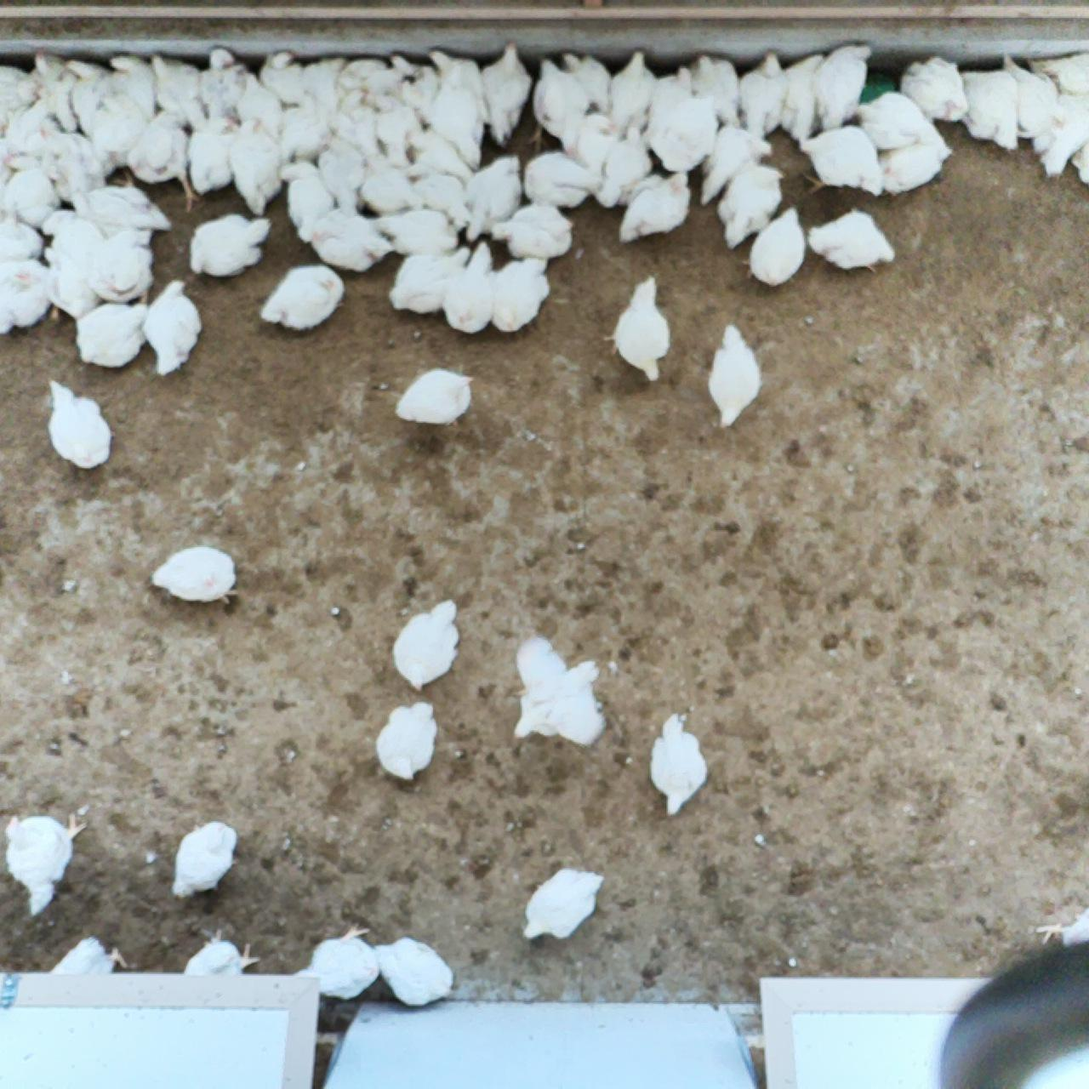chicken: (513, 630, 610, 751), (1, 812, 89, 917), (174, 930, 262, 1032), (40, 202, 108, 318), (125, 110, 201, 212), (280, 925, 380, 1002), (47, 938, 135, 1024), (517, 866, 608, 948), (605, 273, 671, 386), (389, 601, 466, 692), (807, 207, 903, 279), (75, 227, 159, 308), (854, 90, 953, 158), (43, 375, 113, 470), (645, 712, 707, 819), (68, 182, 167, 249), (146, 544, 245, 611), (799, 125, 886, 201), (372, 932, 455, 1011), (302, 202, 393, 274), (140, 276, 205, 376), (705, 319, 763, 431), (388, 247, 473, 320), (188, 211, 275, 282), (259, 264, 345, 334), (617, 170, 696, 246), (716, 165, 788, 248), (740, 201, 807, 290), (480, 36, 534, 144), (655, 93, 725, 176), (462, 153, 523, 248), (168, 820, 240, 900), (376, 697, 439, 787), (486, 251, 553, 335), (441, 240, 499, 337), (697, 130, 776, 201), (955, 66, 1020, 151), (231, 116, 287, 214), (1032, 91, 1089, 184), (605, 43, 661, 136), (774, 53, 827, 151), (488, 201, 574, 261), (393, 367, 476, 429), (734, 46, 788, 141), (76, 302, 152, 369), (38, 121, 103, 198), (996, 53, 1054, 139), (423, 72, 481, 158), (814, 40, 869, 130), (363, 90, 427, 167), (530, 58, 586, 144), (187, 109, 243, 195), (279, 161, 338, 242), (425, 46, 487, 123), (899, 54, 968, 123), (523, 152, 607, 208), (316, 131, 371, 215), (0, 260, 54, 342), (278, 88, 334, 167), (0, 150, 56, 229), (374, 207, 460, 258), (598, 125, 649, 208), (881, 144, 955, 201), (89, 93, 150, 162), (687, 53, 742, 129), (150, 54, 207, 126), (329, 88, 384, 161), (102, 54, 161, 122), (1033, 903, 1089, 974), (66, 58, 119, 131), (196, 47, 245, 125), (29, 50, 78, 127), (561, 48, 617, 115), (237, 71, 287, 145), (387, 53, 438, 125), (260, 46, 316, 111), (650, 65, 700, 137), (359, 159, 422, 215), (406, 172, 470, 227), (404, 126, 471, 177), (0, 59, 48, 130), (340, 54, 405, 106), (569, 109, 617, 175), (301, 54, 349, 115), (1029, 50, 1089, 98), (10, 96, 56, 150), (0, 217, 44, 267), (0, 133, 18, 193), (1070, 139, 1089, 190)
